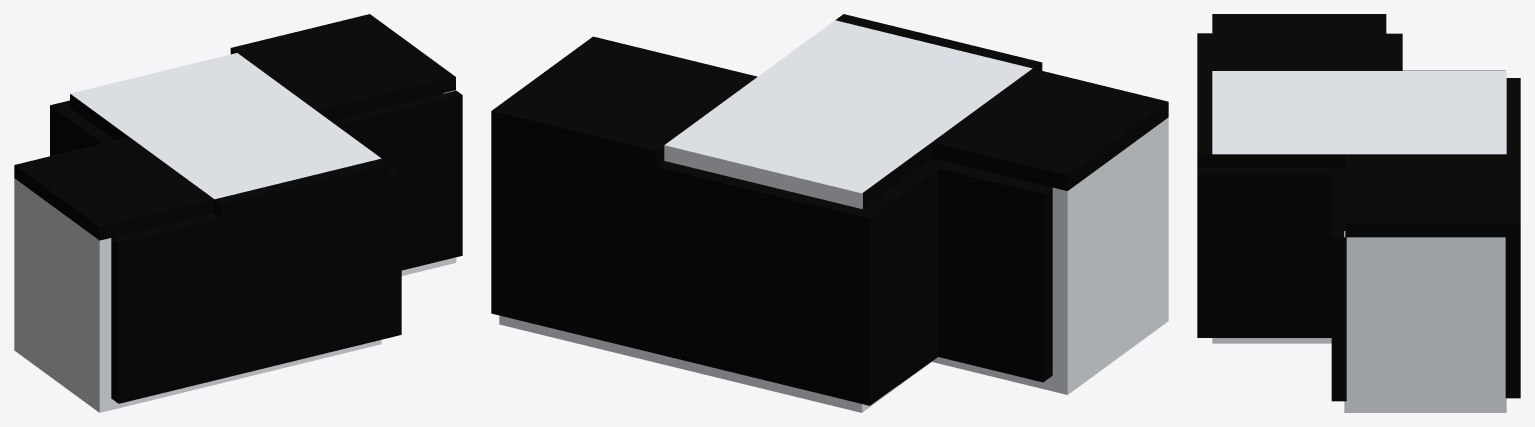
File: fgr_laespada_room.fbx
3 renders of one model, left to right at view 1: azimuth 30°, elevation 25°; view 2: azimuth 150°, elevation 25°; view 3: azimuth 270°, elevation 25°, orthographic. The views are drawn at different scales.
Visible parts, largest first — view 1: fgr_invis_walls, fgr_walls; view 2: fgr_invis_walls, fgr_walls; view 3: fgr_invis_walls, fgr_walls.
Boxes of the visible parts, bbox=[...] form: fgr_invis_walls: bbox=[14, 14, 462, 403]; fgr_walls: bbox=[14, 53, 456, 412]; fgr_invis_walls: bbox=[491, 14, 1168, 405]; fgr_walls: bbox=[499, 20, 1168, 412]; fgr_invis_walls: bbox=[1197, 14, 1520, 401]; fgr_walls: bbox=[1212, 71, 1506, 412].
Size of the model in its own units: 13300 by 5603 by 8662.
Materials: 2 (2 with a texture image).
